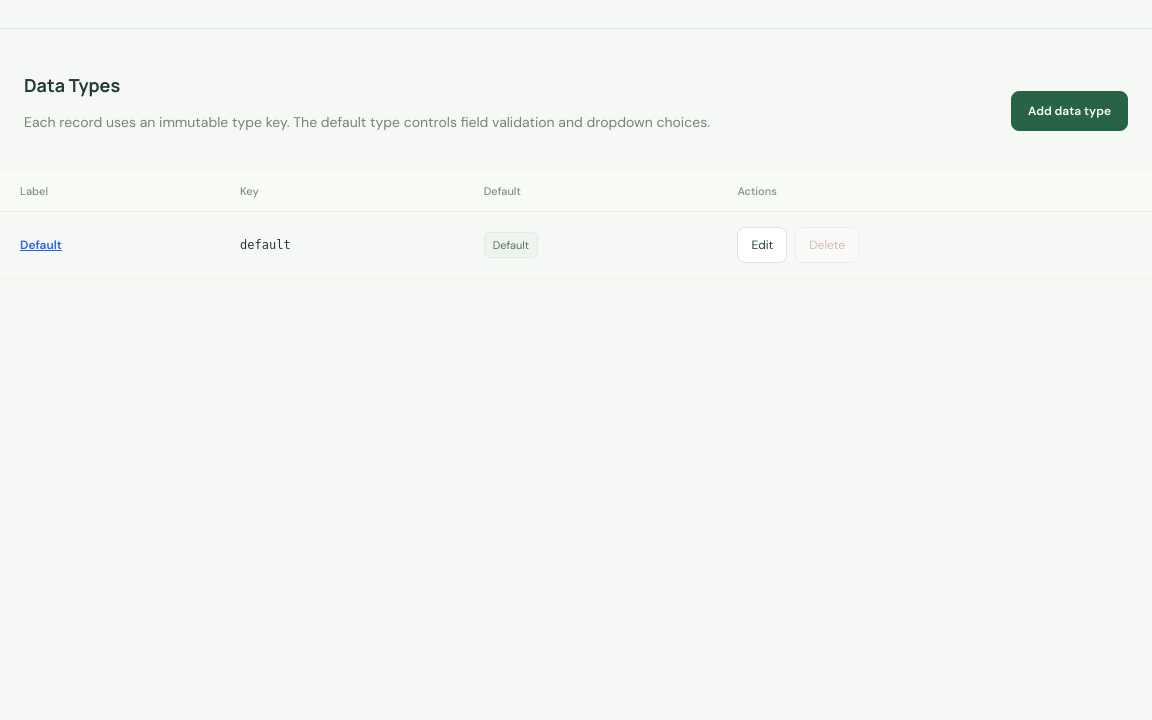
it: data type metadata › keeps keys immutable while labels remain editable
This screenshot has width=1152, height=720.
Click the button with aria-label "Edit data type Default". click: x=762, y=245
box: [737,227,787,263]
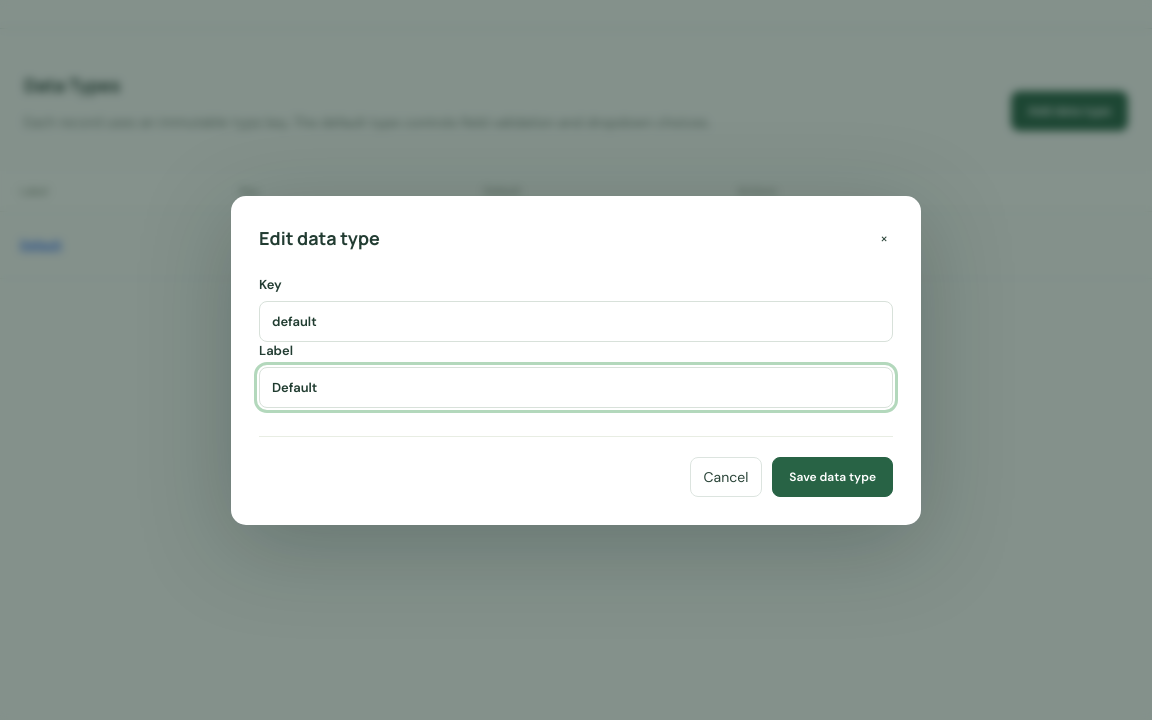
Expected: the field named "Data type key" is disabled, [259,300,893,342]
Expected: the field named "Data type label" is enabled, [259,366,893,408]
